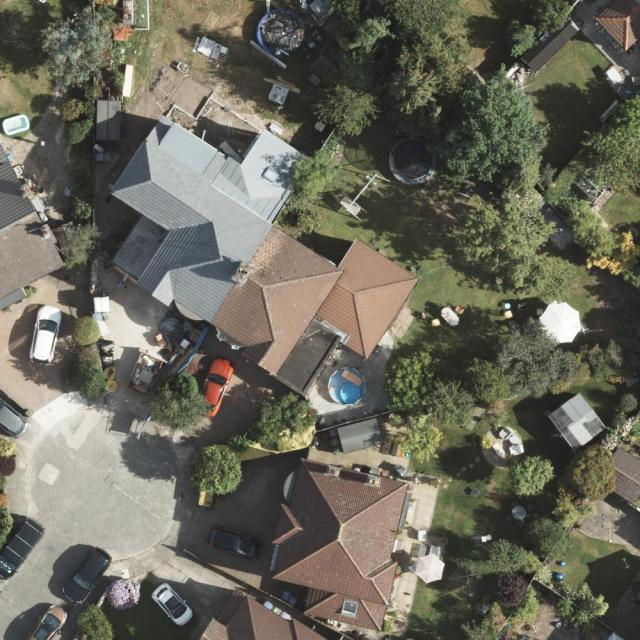roof: (107, 113, 419, 400), (269, 459, 408, 632), (0, 144, 65, 310), (197, 584, 332, 640)
skylight: (339, 596, 360, 619), (260, 164, 280, 183)
